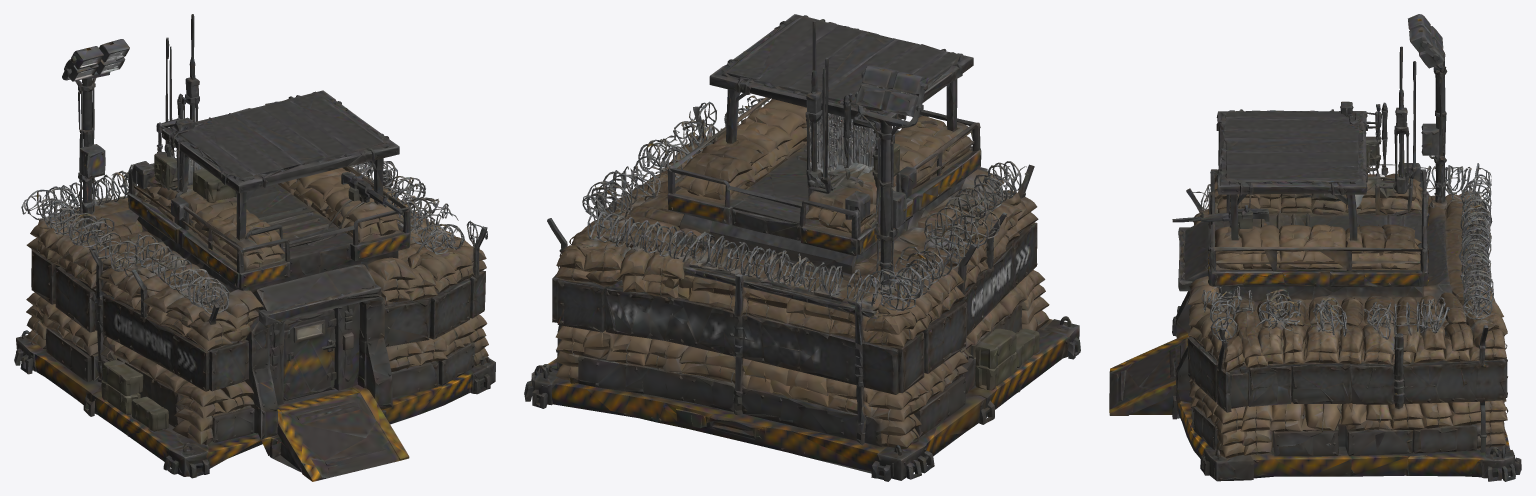
File: bunker.glb
3 renders of one model, left to right at view 1: azimuth 30°, elevation 25°; view 2: azimuth 150°, elevation 25°; view 3: azimuth 270°, elevation 25°, orthographic. The views are drawn at different scales.
Parts seen in each view (by area): view 1: output_unwrapped; view 2: output_unwrapped; view 3: output_unwrapped.
Boxes of the visible parts, left/top/right/bottom form: output_unwrapped: left=14, top=14, right=495, bottom=481; output_unwrapped: left=524, top=14, right=1080, bottom=481; output_unwrapped: left=1109, top=14, right=1521, bottom=481.
Bounding box in the file's own units: 1.78 × 1.72 × 1.91.
Materials: 1 (1 with a texture image).
